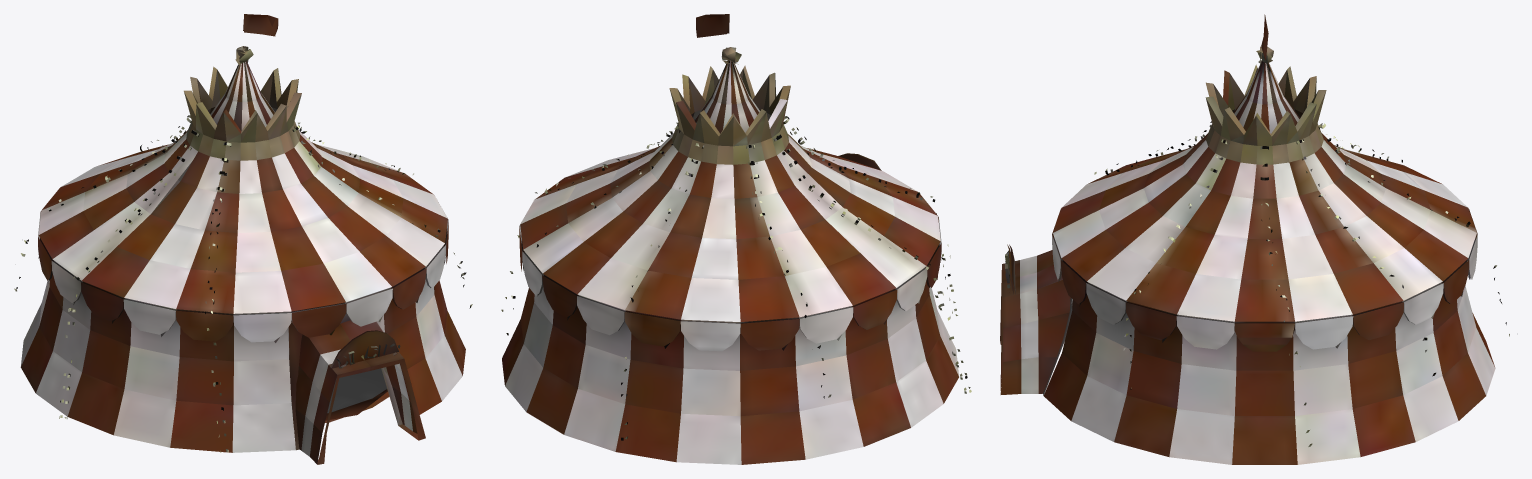
The model's file is tent_small_far.glb.
3 views of the same model, side by side, from view 1: azimuth 30°, elevation 25°; view 2: azimuth 150°, elevation 25°; view 3: azimuth 270°, elevation 25° (orthographic). The views are drawn at different scales.
Visible parts, largest first — view 1: baked; view 2: baked; view 3: baked.
Boxes of the visible parts, x1=… form: baked: x1=14, y1=14, x2=472, y2=464; baked: x1=501, y1=14, x2=971, y2=464; baked: x1=1000, y1=14, x2=1509, y2=464.
Size of the model in its own units: 0.0718 by 0.0577 by 0.0763.
1 material, 1 textured.
